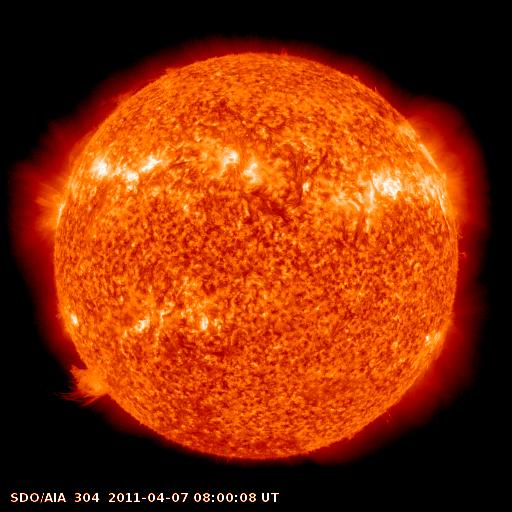prominence: (100, 59, 188, 112), (45, 355, 118, 410), (58, 114, 108, 181)
